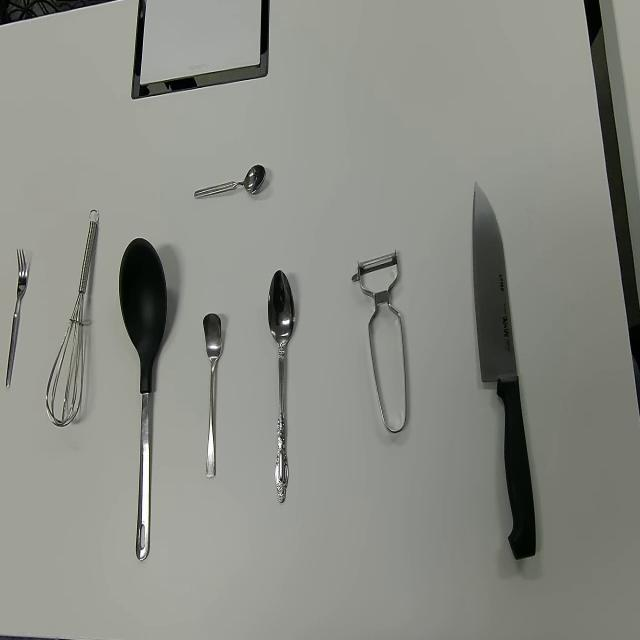Desert-Spoon: (267, 268, 296, 506)
Dinner-Fork: (5, 246, 28, 390)
Kitchen-Knife: (472, 179, 537, 560)
Peeler: (350, 249, 408, 434)
Serving-Spoon: (118, 235, 168, 562)
Tea-Spoon: (202, 311, 223, 479), (194, 163, 267, 202)
Whisk: (45, 208, 100, 428)
